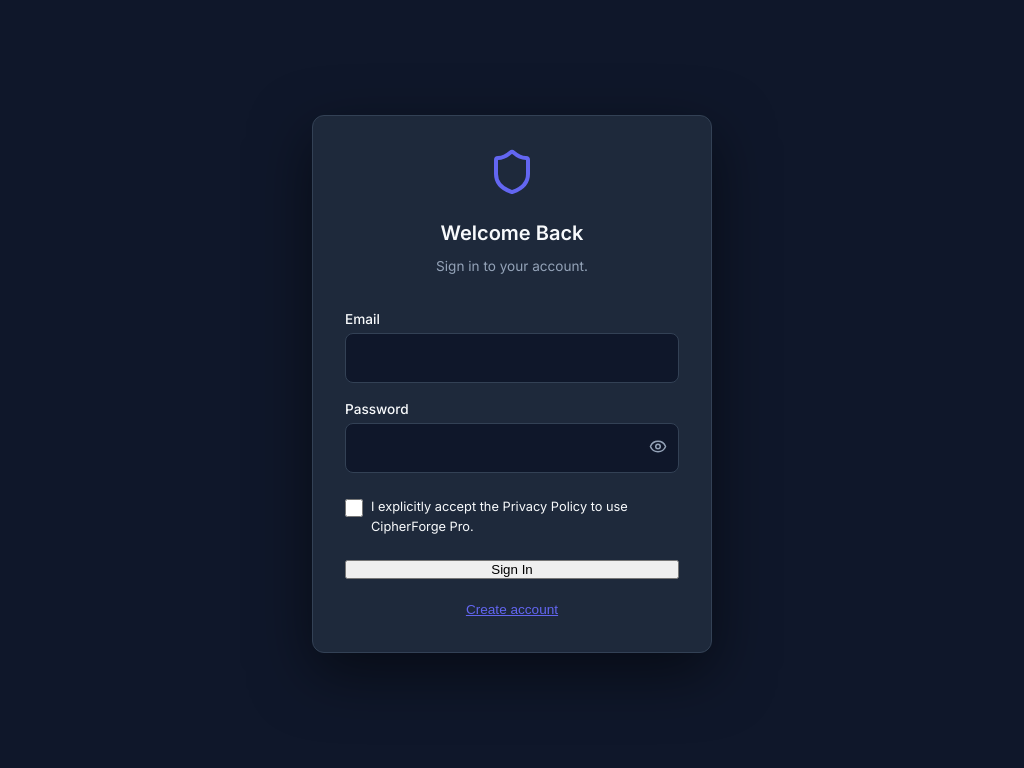
LoginScreen sign-in › blocks sign-in without consent
This screenshot has width=1024, height=768.
Type "ada@example.com" into the field labelled "Email" at coordinates (512, 358), box [345, 333, 679, 383]
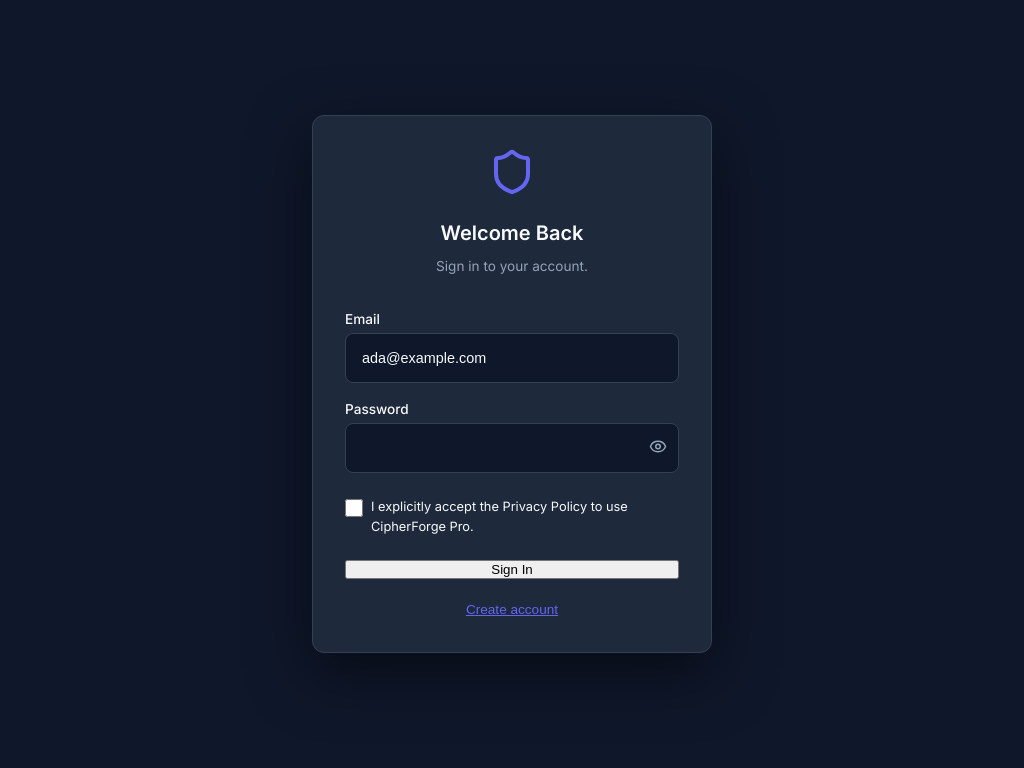
Type "correct-horse-battery-staple" into the password field labelled "Password" at coordinates (512, 448), box [345, 423, 679, 473]
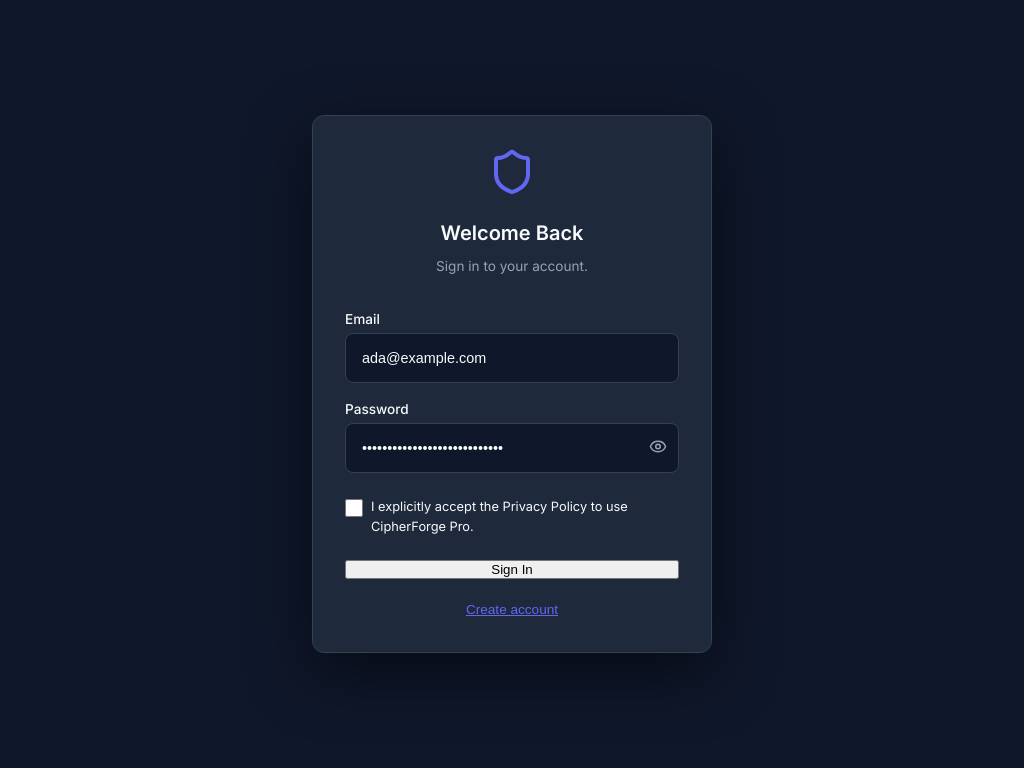
Submit the form labelled "Email", box [345, 309, 679, 620]
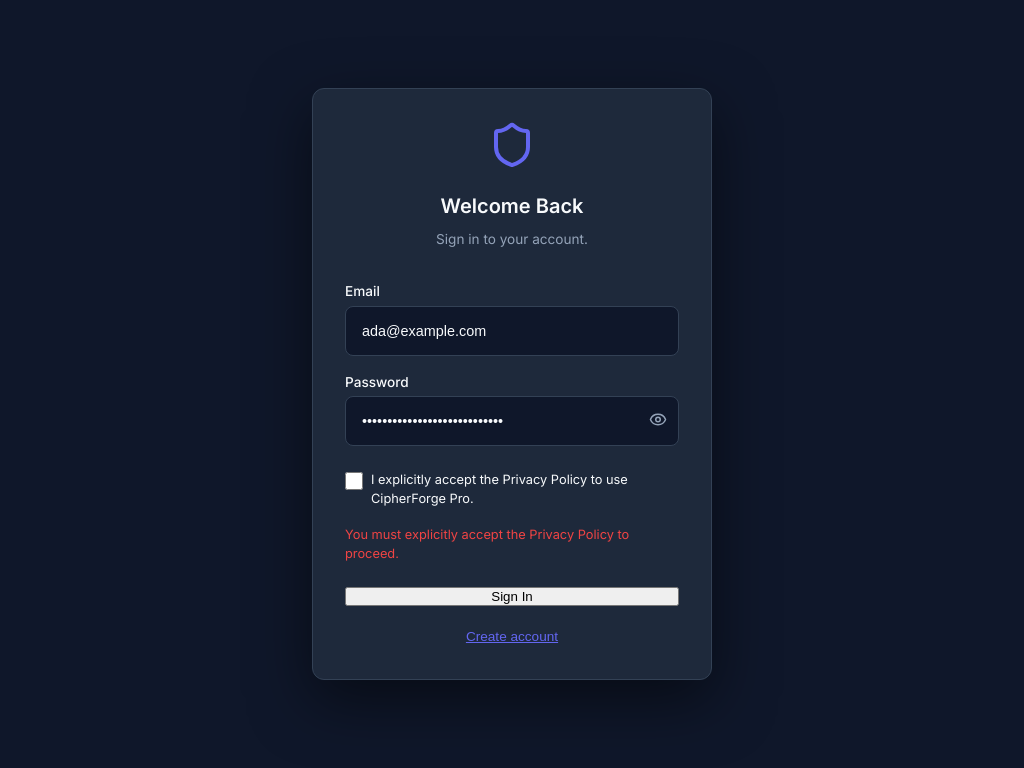
Now the message reads "You must explicitly accept the Privacy Policy to proceed.", box [345, 527, 629, 561]
